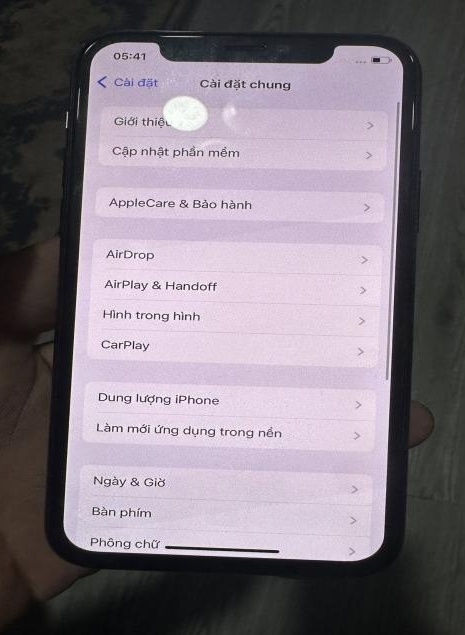screen_defect: (160, 89, 210, 133)
